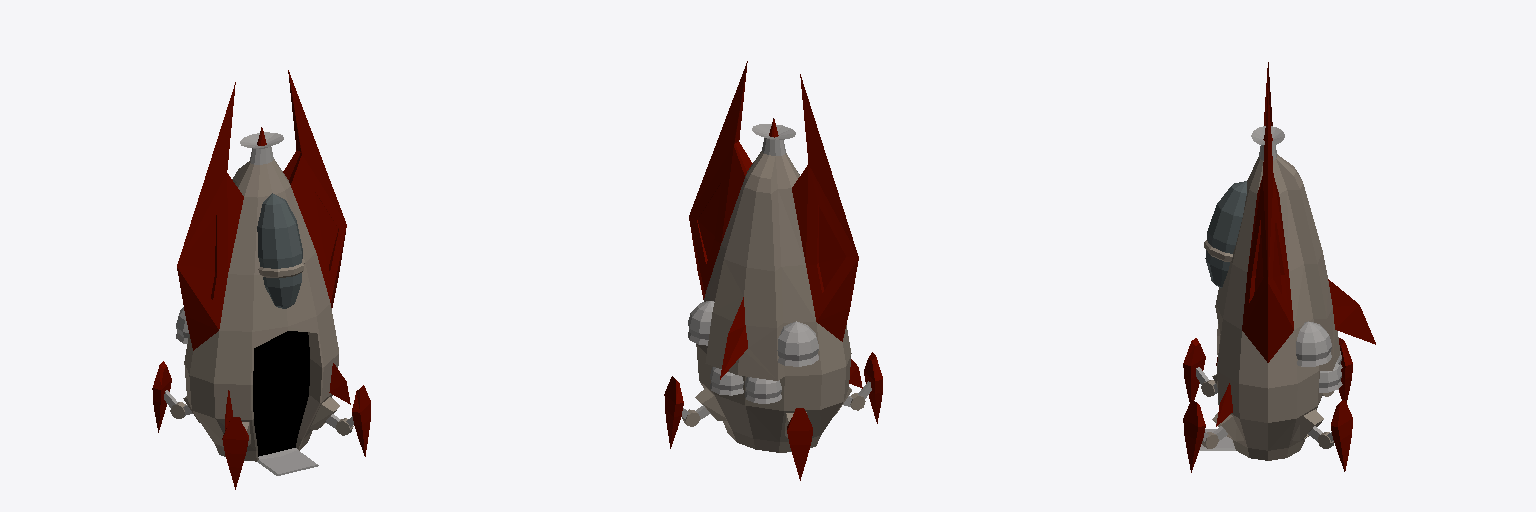
3 renders of one model, left to right at view 1: azimuth 30°, elevation 25°; view 2: azimuth 150°, elevation 25°; view 3: azimuth 270°, elevation 25°, orthographic.
Visible parts, largest first — view 1: Circle_Circle.001; view 2: Circle_Circle.001; view 3: Circle_Circle.001.
Part boxes in pixels (x1,y1,x2,y2): Circle_Circle.001: (152, 70, 370, 489); Circle_Circle.001: (664, 61, 882, 480); Circle_Circle.001: (1183, 62, 1375, 472).
Size of the model in its own units: 1.93 by 4.01 by 1.9.
1 materials, 1 textured.